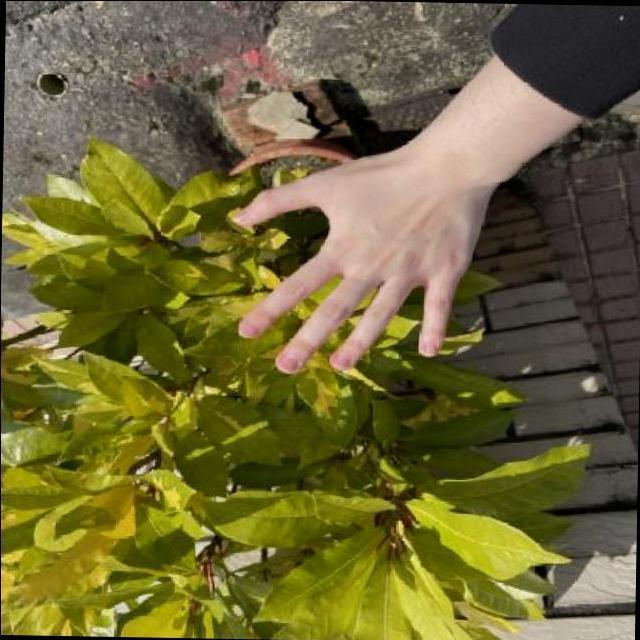hand: (219, 146, 496, 383)
